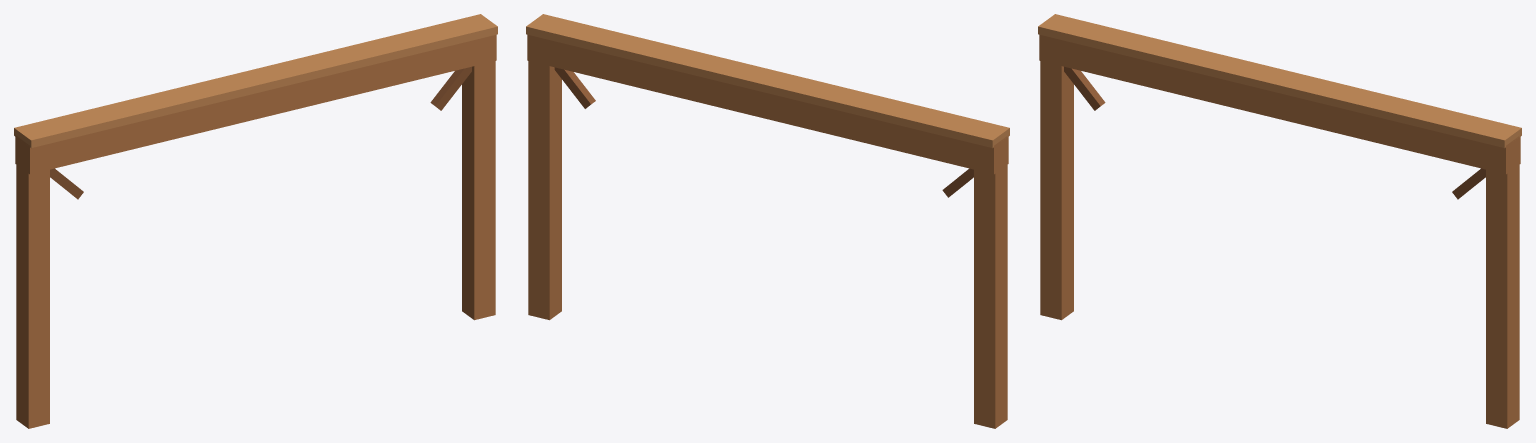
Rendered from terrarium_frame.glb.
3 views of the same model, side by side, from view 1: azimuth 30°, elevation 25°; view 2: azimuth 150°, elevation 25°; view 3: azimuth 330°, elevation 25° (orthographic).
Parts seen in each view (by area): view 1: terrarium_frame; view 2: terrarium_frame; view 3: terrarium_frame.
Part boxes in pixels (x1=…): terrarium_frame: x1=14, y1=14, x2=497, y2=428; terrarium_frame: x1=526, y1=14, x2=1009, y2=428; terrarium_frame: x1=1038, y1=14, x2=1521, y2=428.
Bounding box in the file's own units: 4.4 × 2.62 × 0.28.
1 material, 1 textured.
